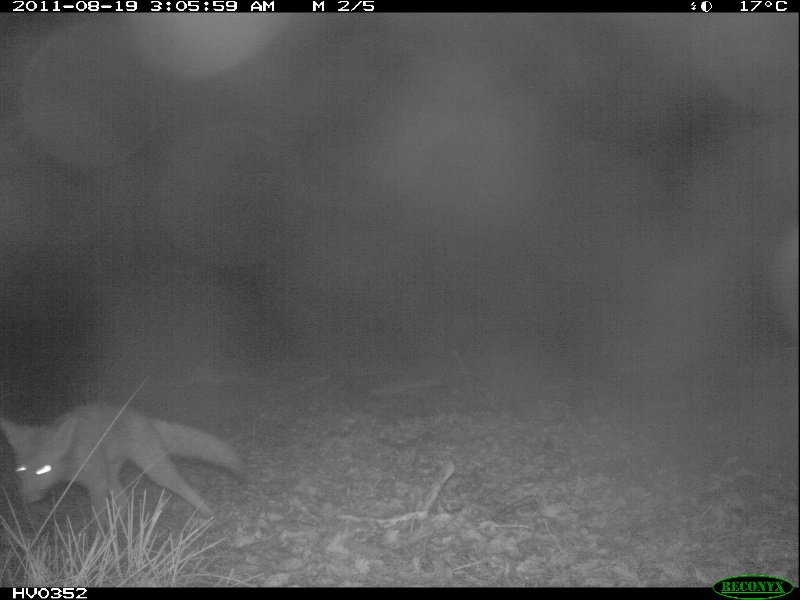fox: (1, 403, 247, 525)
